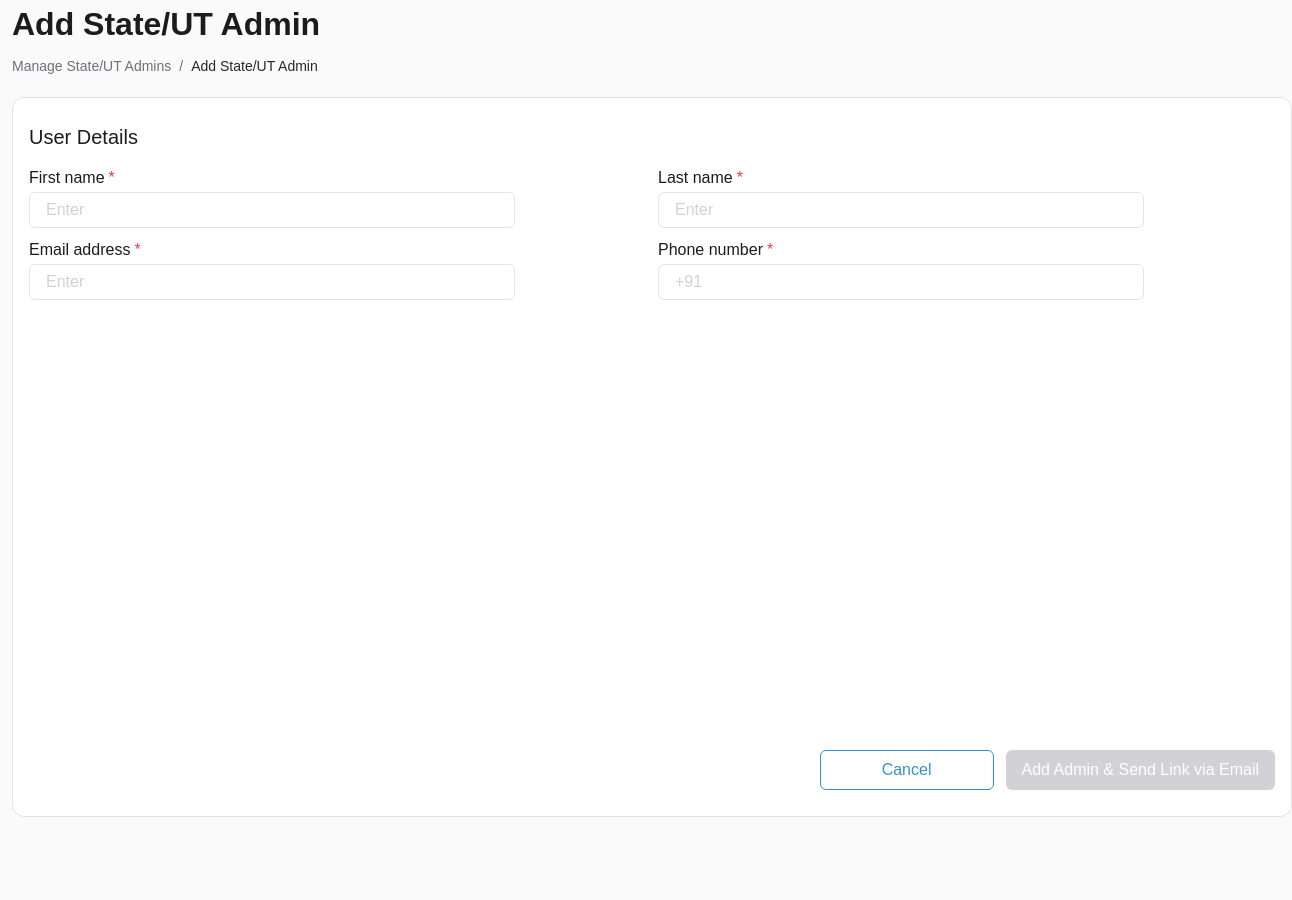
StateUTAdminFormPage — Add Mode › submit button is enabled when form is valid
Type "Vijay" into the field labelled "First name*" at [272, 210], box [29, 192, 515, 228]
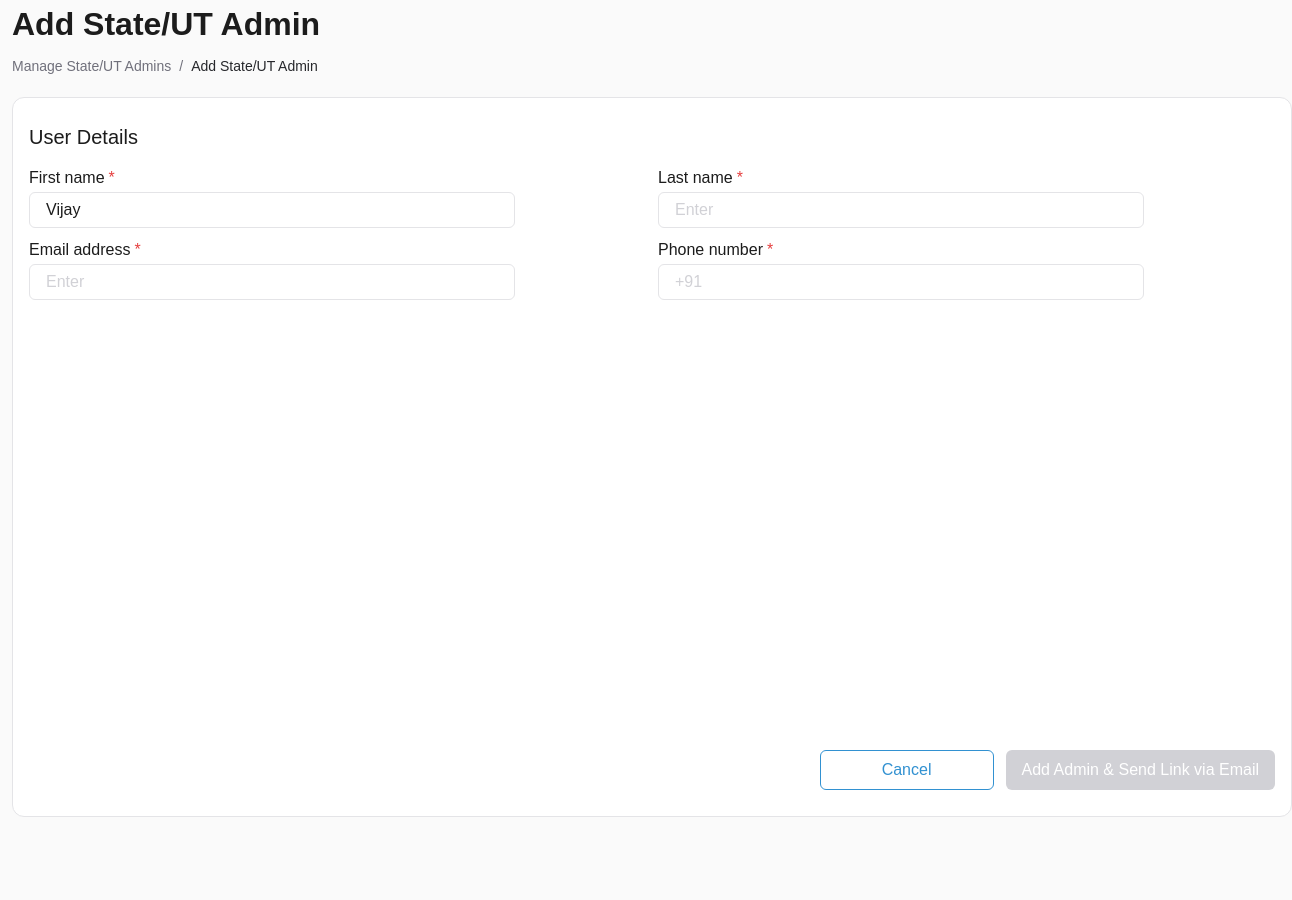
Type "Kumar" into the field labelled "Last name*" at [901, 210], box [658, 192, 1144, 228]
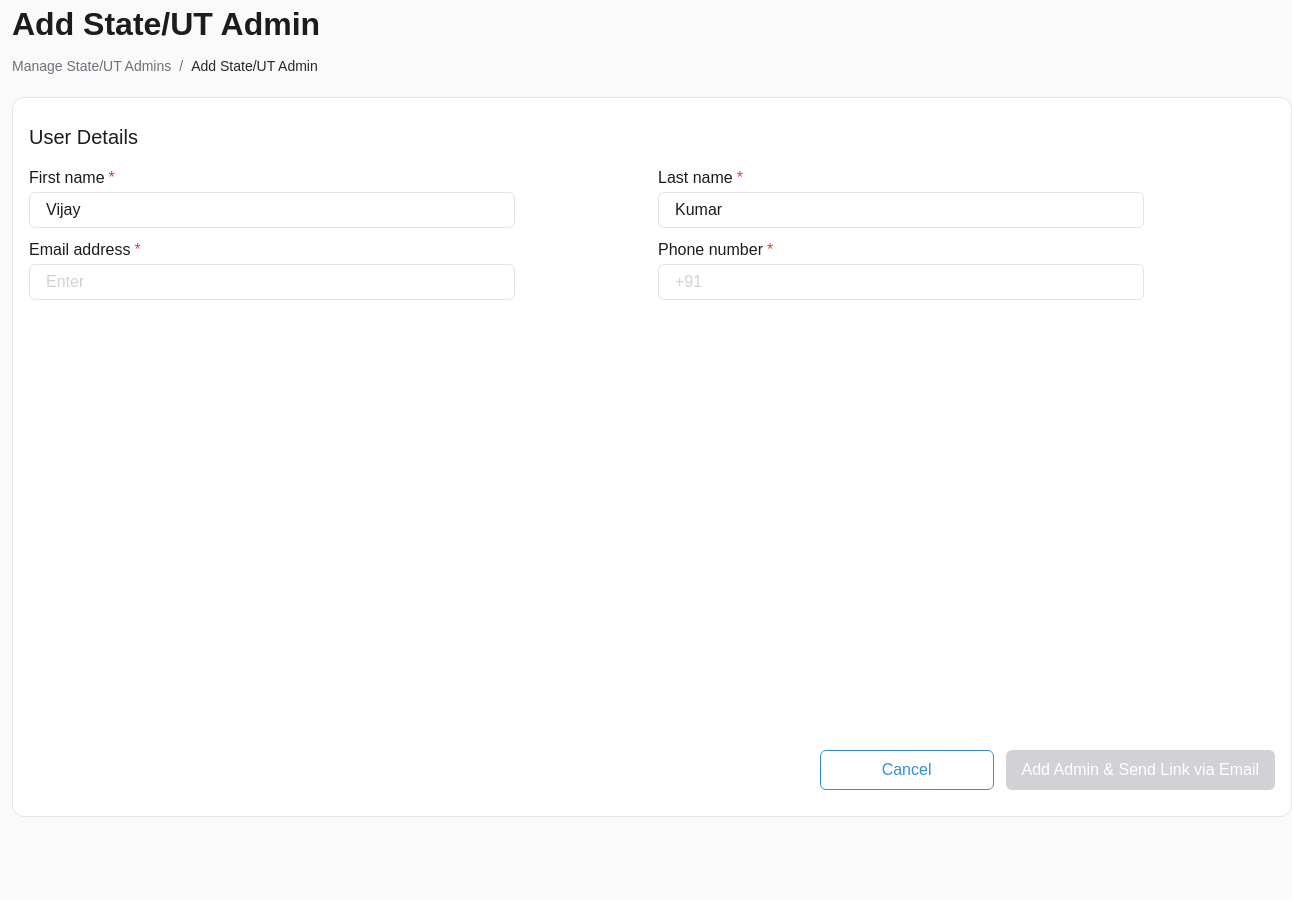
Type "vijay@gmail.com" into the field labelled "Email address*" at [272, 282], box [29, 264, 515, 300]
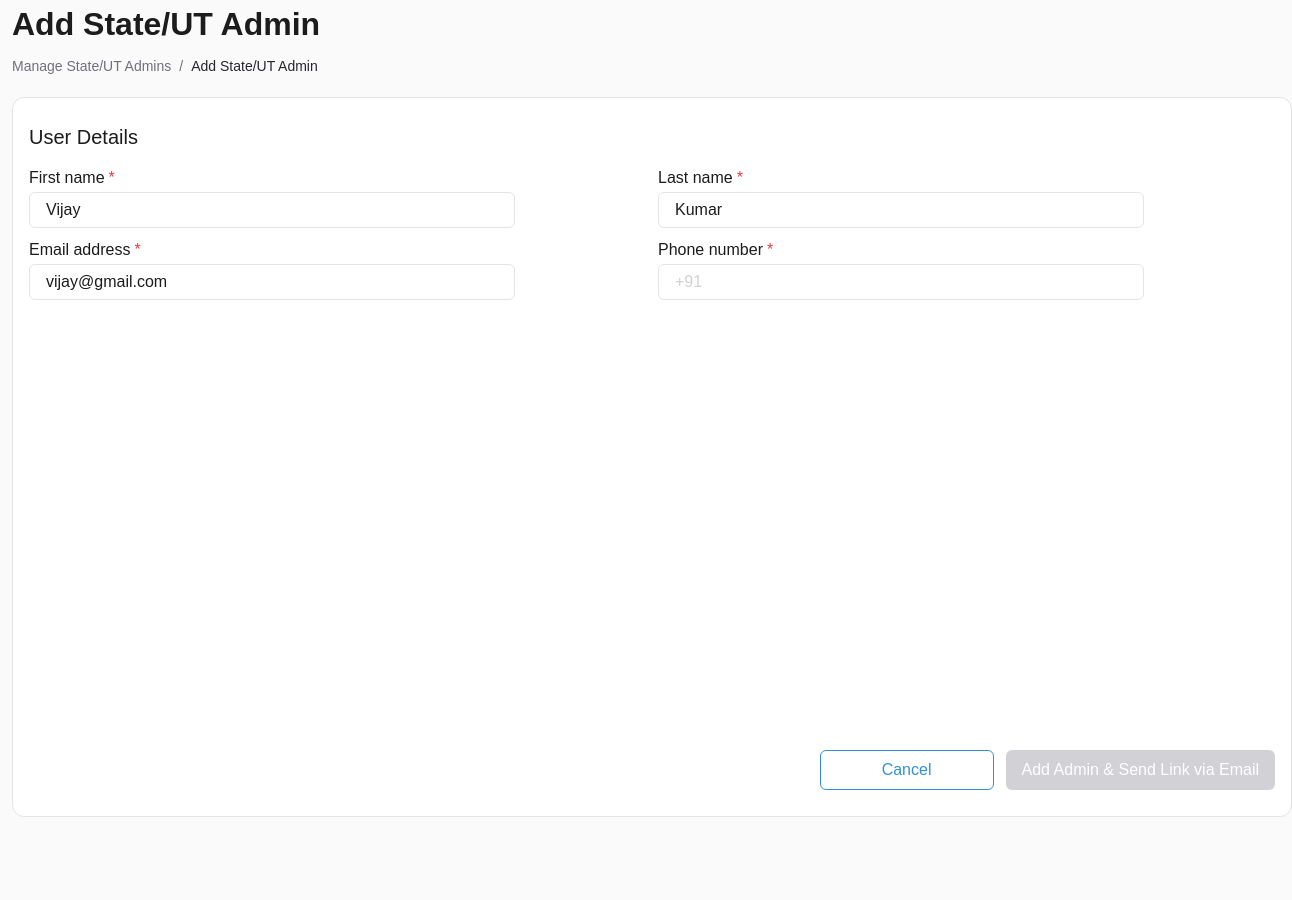
Type "8564254517" into the field labelled "Phone number*" at [901, 282], box [658, 264, 1144, 300]
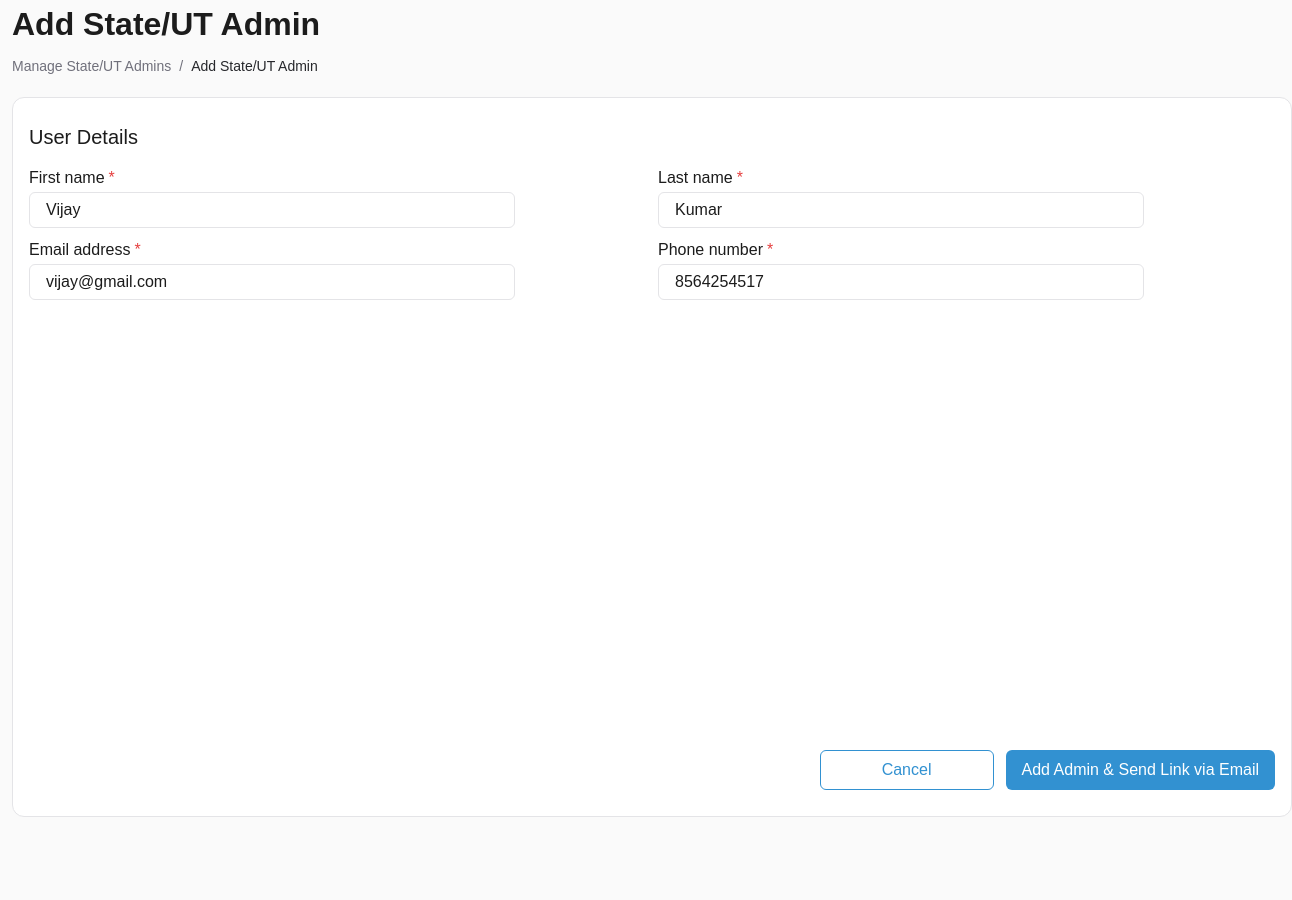
Check: the button "Add Admin & Send Link via Email" is enabled, box [1006, 750, 1275, 790]
